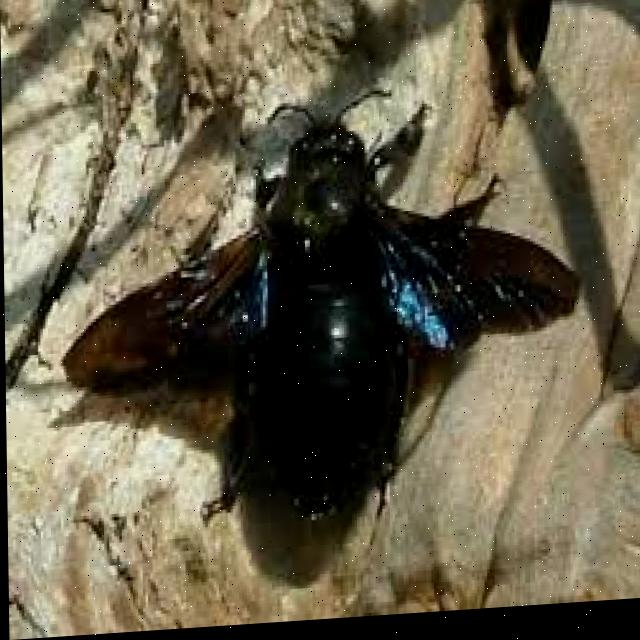Xylocopa: (38, 72, 589, 543)
